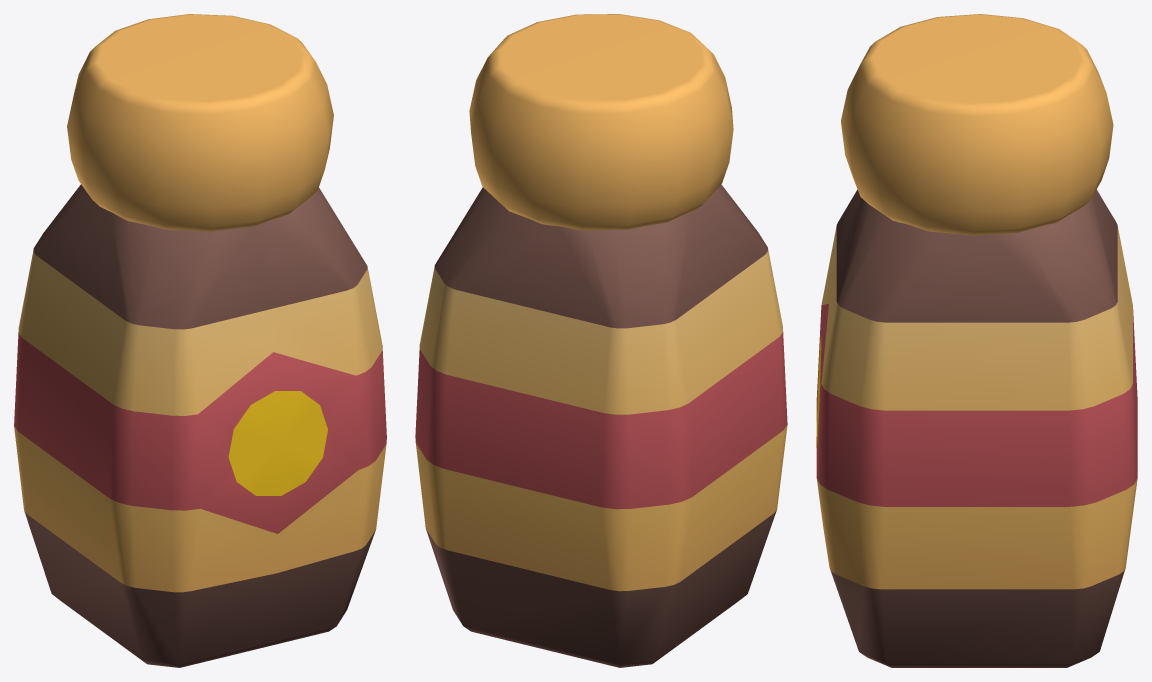
File: coffee_001.fbx
3 renders of one model, left to right at view 1: azimuth 30°, elevation 25°; view 2: azimuth 150°, elevation 25°; view 3: azimuth 270°, elevation 25°, orthographic.
Parts seen in each view (by area): view 1: coffee_001; view 2: coffee_001; view 3: coffee_001.
Part boxes in pixels (x1,y1,x2,y2): coffee_001: [14, 14, 386, 667]; coffee_001: [415, 14, 787, 667]; coffee_001: [816, 14, 1137, 667].
Bounding box in the file's own units: 8.1 × 8.11 × 15.73.
